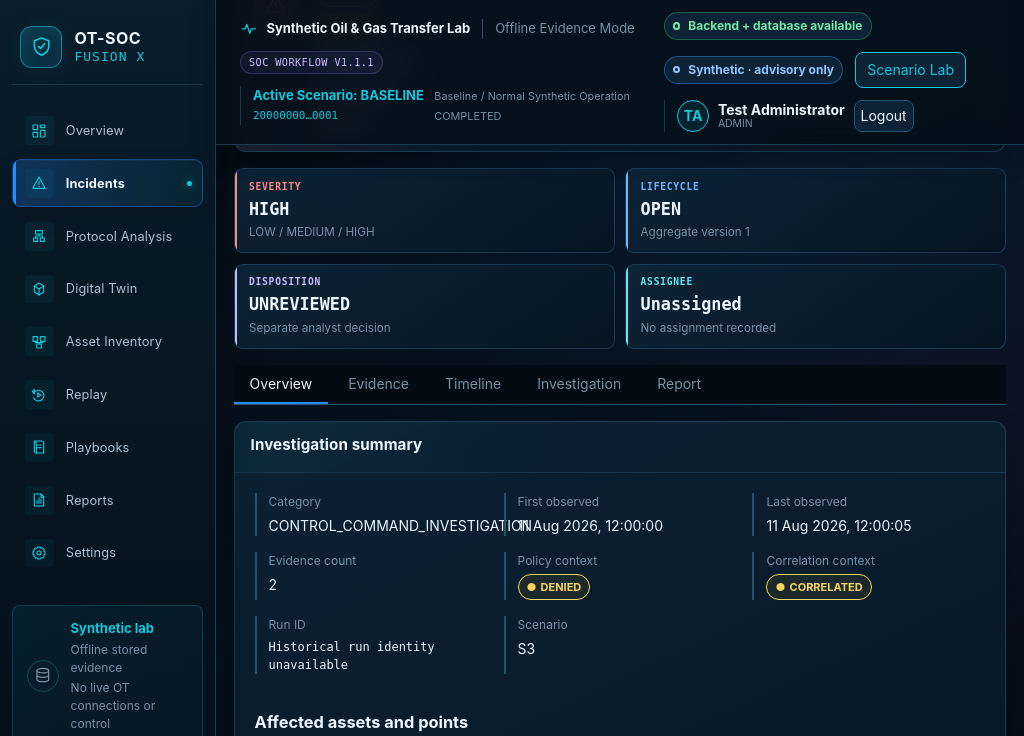
Test: v1.1.1 visual experience polish › renders the enhanced incident workspace, evidence chain, timeline, and lifecycle boundary
The width and height of the screenshot is (1024, 736).
(page scrolled)
Check: the element named "Incident context summary" is shown, box top-left (234, 168), bottom-right (1006, 348)
What coordinates should you click on to do the following:
click the tab "Evidence"
I would click on:
 (379, 384)
Its box is top-left (332, 364), bottom-right (425, 404).
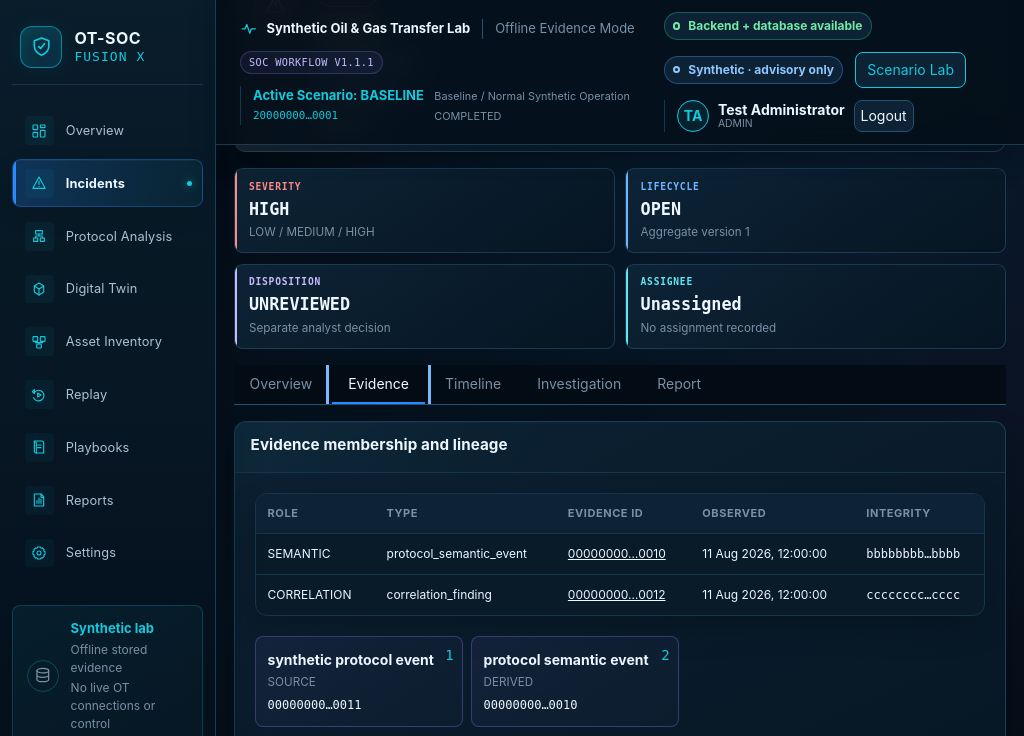
Check: the heading "Evidence membership and lineage" is shown, box top-left (251, 434), bottom-right (508, 454)
What coordinates should you click on to do the following:
click the tab "Timeline"
I would click on:
 (473, 384)
Its box is top-left (429, 364), bottom-right (517, 404).
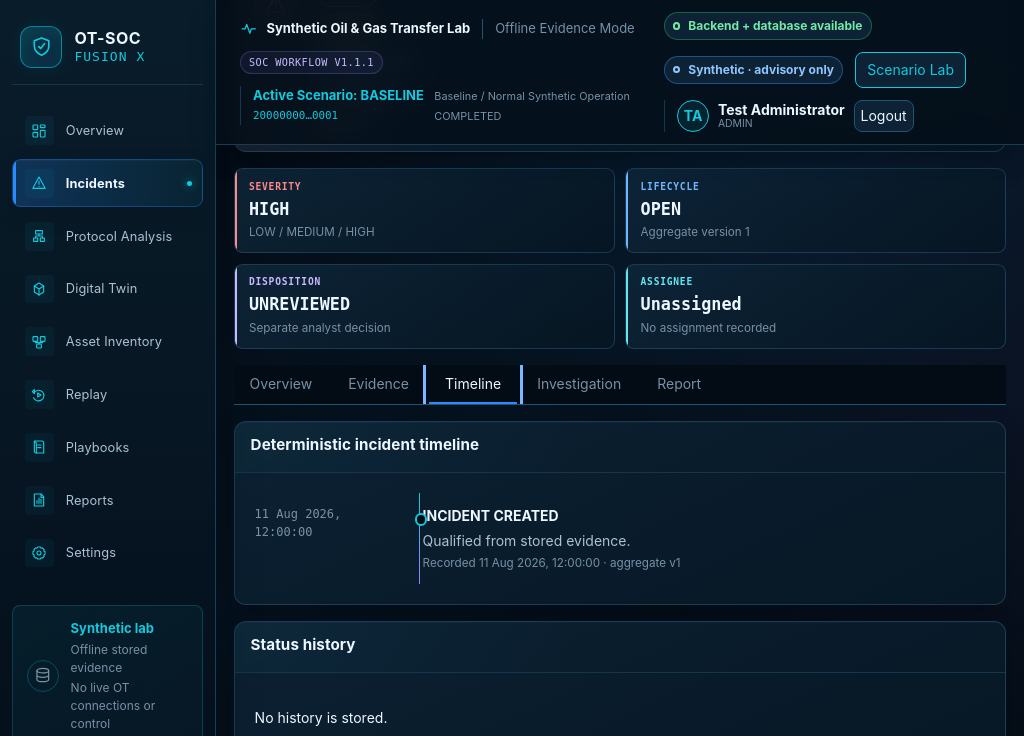
Check: the heading "Deterministic incident timeline" is shown, box top-left (251, 434), bottom-right (479, 454)
What coordinates should you click on to do the following:
click the tab "Investigation"
I would click on:
 (579, 384)
Its box is top-left (521, 364), bottom-right (637, 404).
(page scrolled)
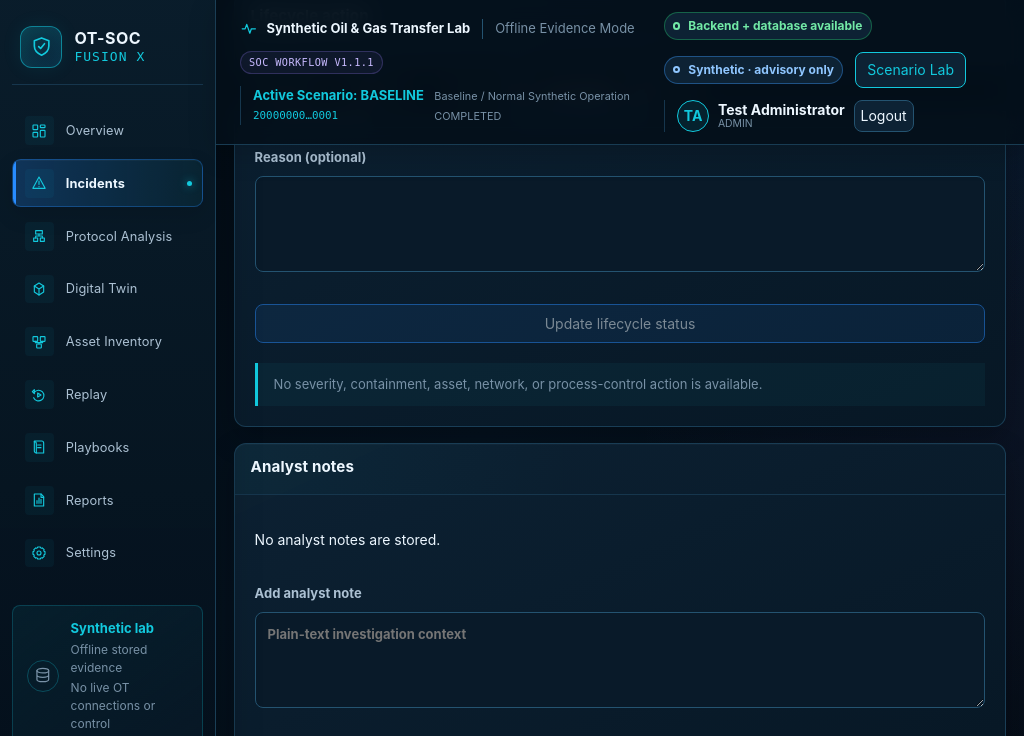
Check: the text "No severity, containment, asset, network, or process-control action" is shown, box top-left (274, 376), bottom-right (762, 392)
